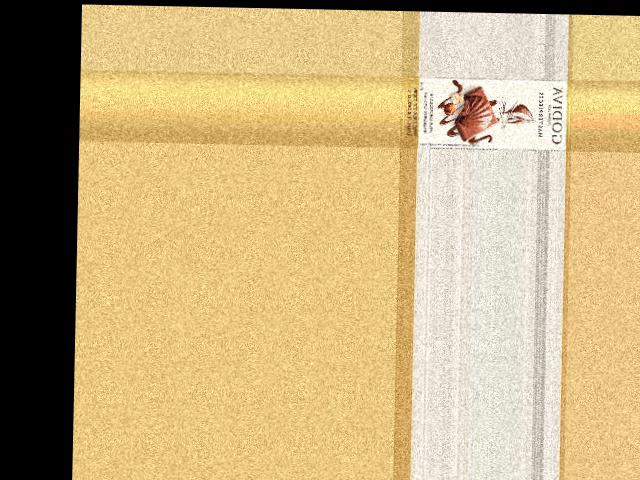chocolate: (400, 76, 572, 150)
